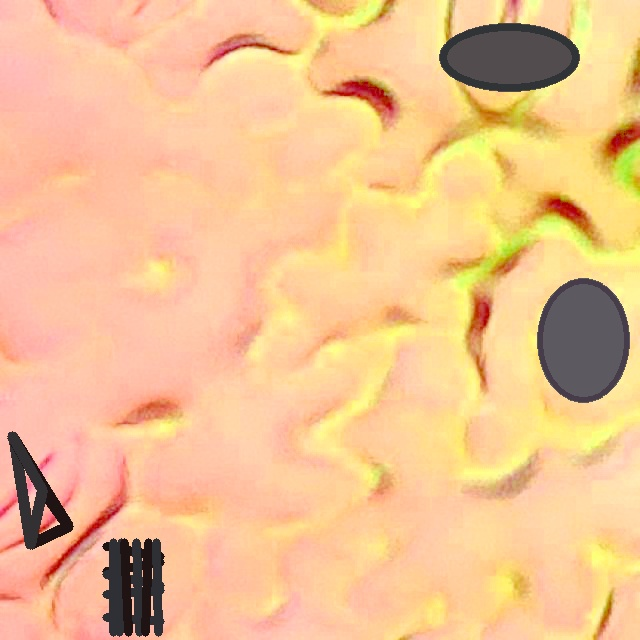close: (10, 431, 73, 548), (102, 538, 163, 635)
open: (537, 279, 629, 401), (438, 23, 579, 92)
